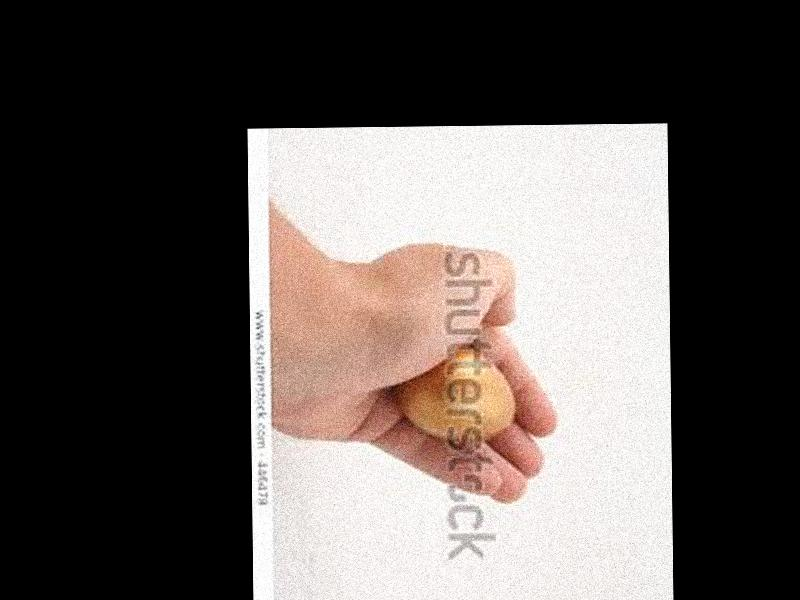Eggs: (399, 351, 514, 440)
